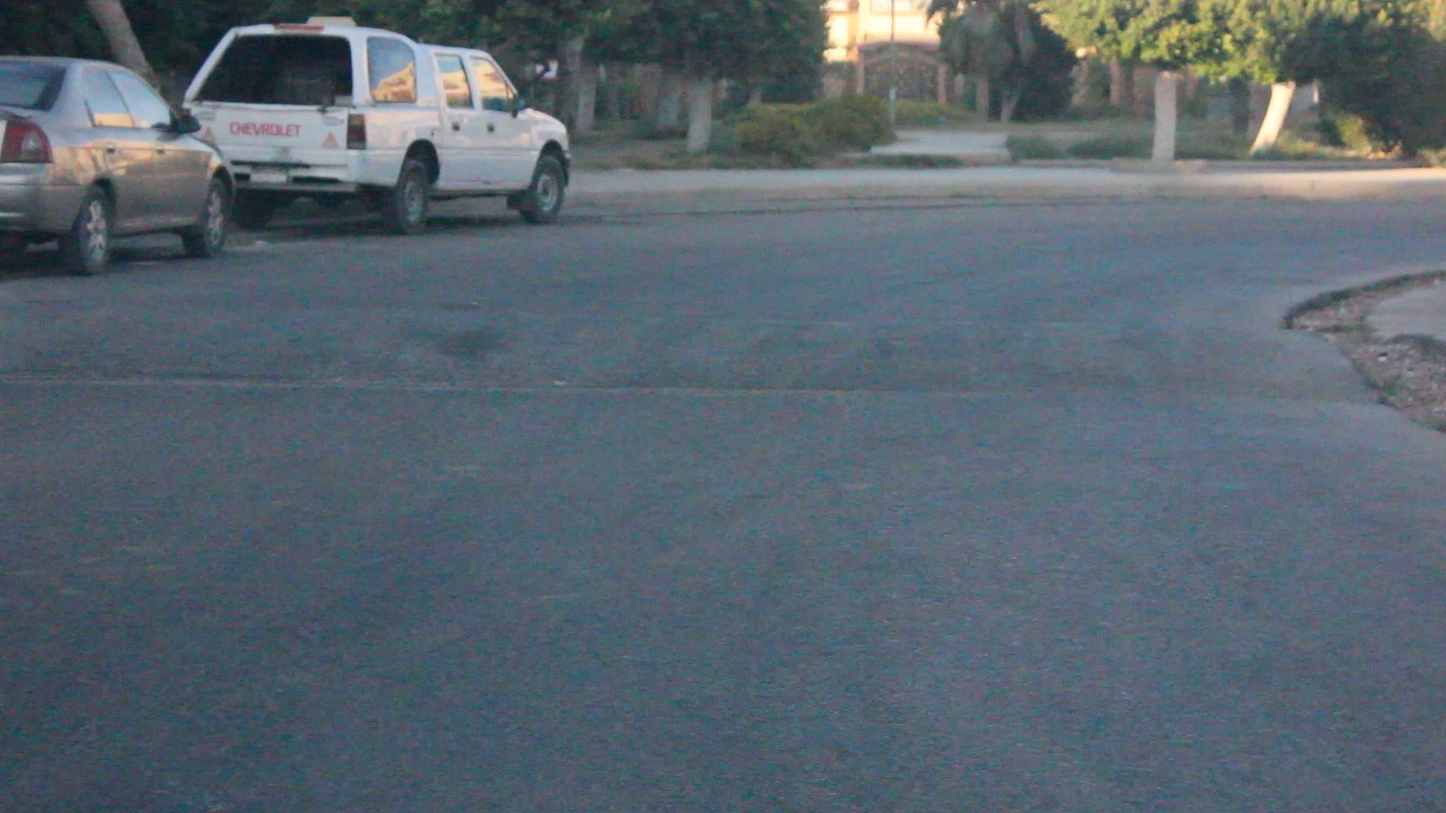Bump: (0, 280, 1344, 416)
